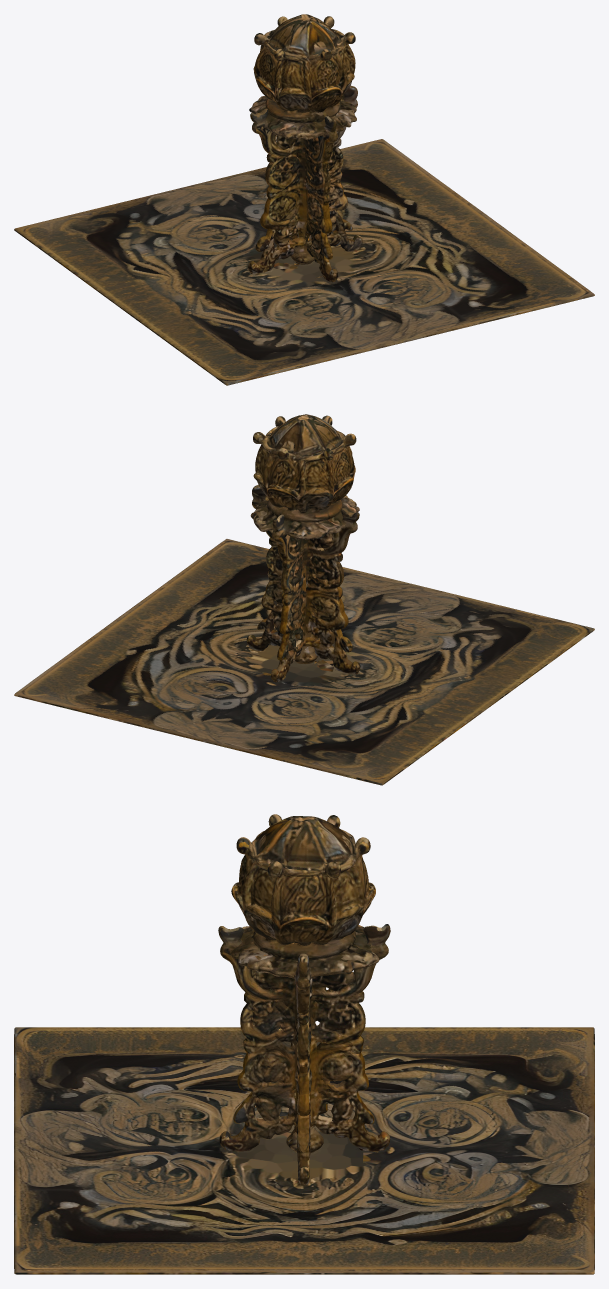
3 renders of one model, top to bottom at view 1: azimuth 30°, elevation 25°; view 2: azimuth 150°, elevation 25°; view 3: azimuth 270°, elevation 25°, orthographic. The views are drawn at different scales.
Parts seen in each view (by area): view 1: textured_mesh; view 2: textured_mesh; view 3: textured_mesh.
Boxes of the visible parts, x1=… form: textured_mesh: x1=14, y1=14, x2=594, y2=385; textured_mesh: x1=14, y1=414, x2=594, y2=785; textured_mesh: x1=14, y1=814, x2=594, y2=1274.
Bounding box in the file's own units: 1.99 × 1.27 × 1.99.
Materials: 1 (1 with a texture image).
